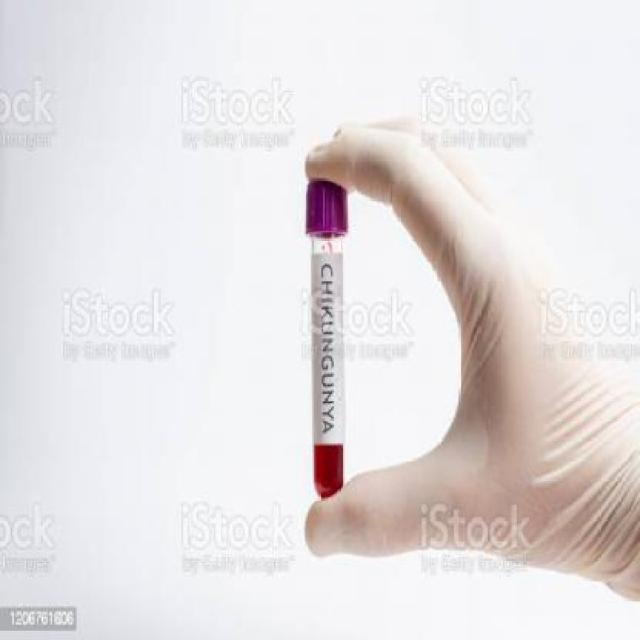Experimental-tube: (300, 171, 352, 498)
